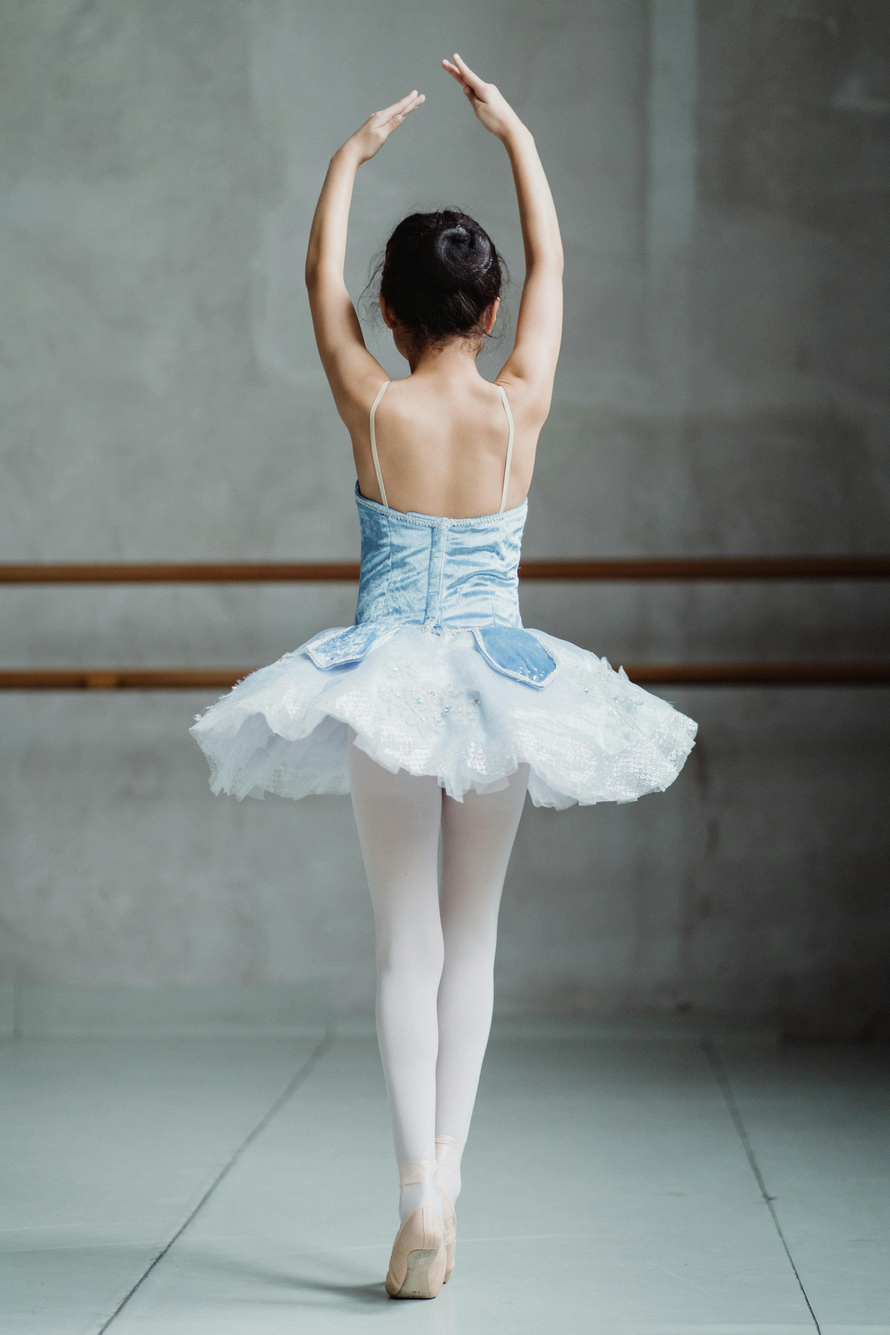Human: (272, 111, 620, 1298)
